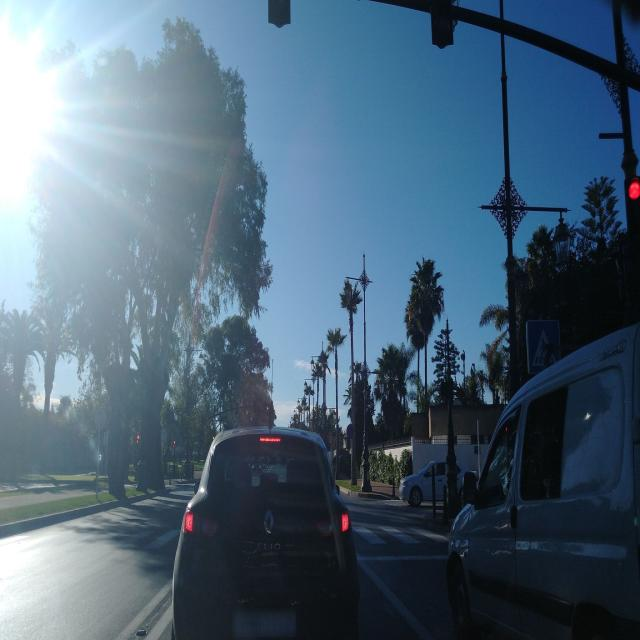car: (446, 319, 640, 637), (171, 423, 361, 638), (400, 458, 465, 508)
